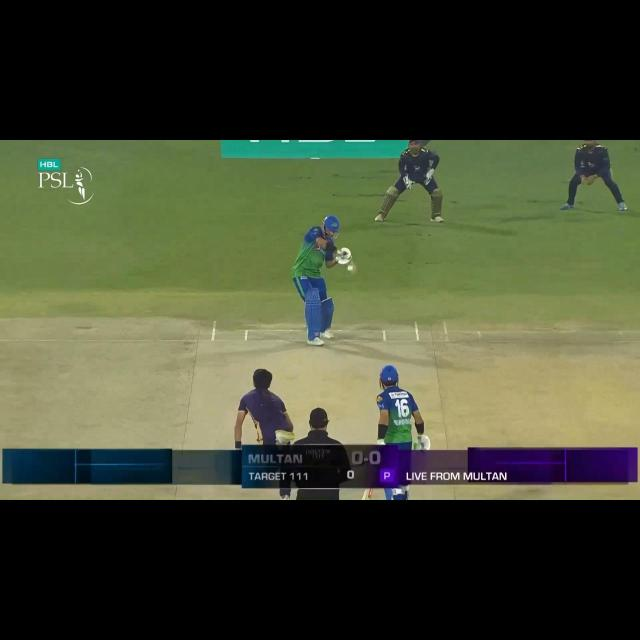bat: (346, 260, 358, 275)
toe: (351, 268, 359, 275)
